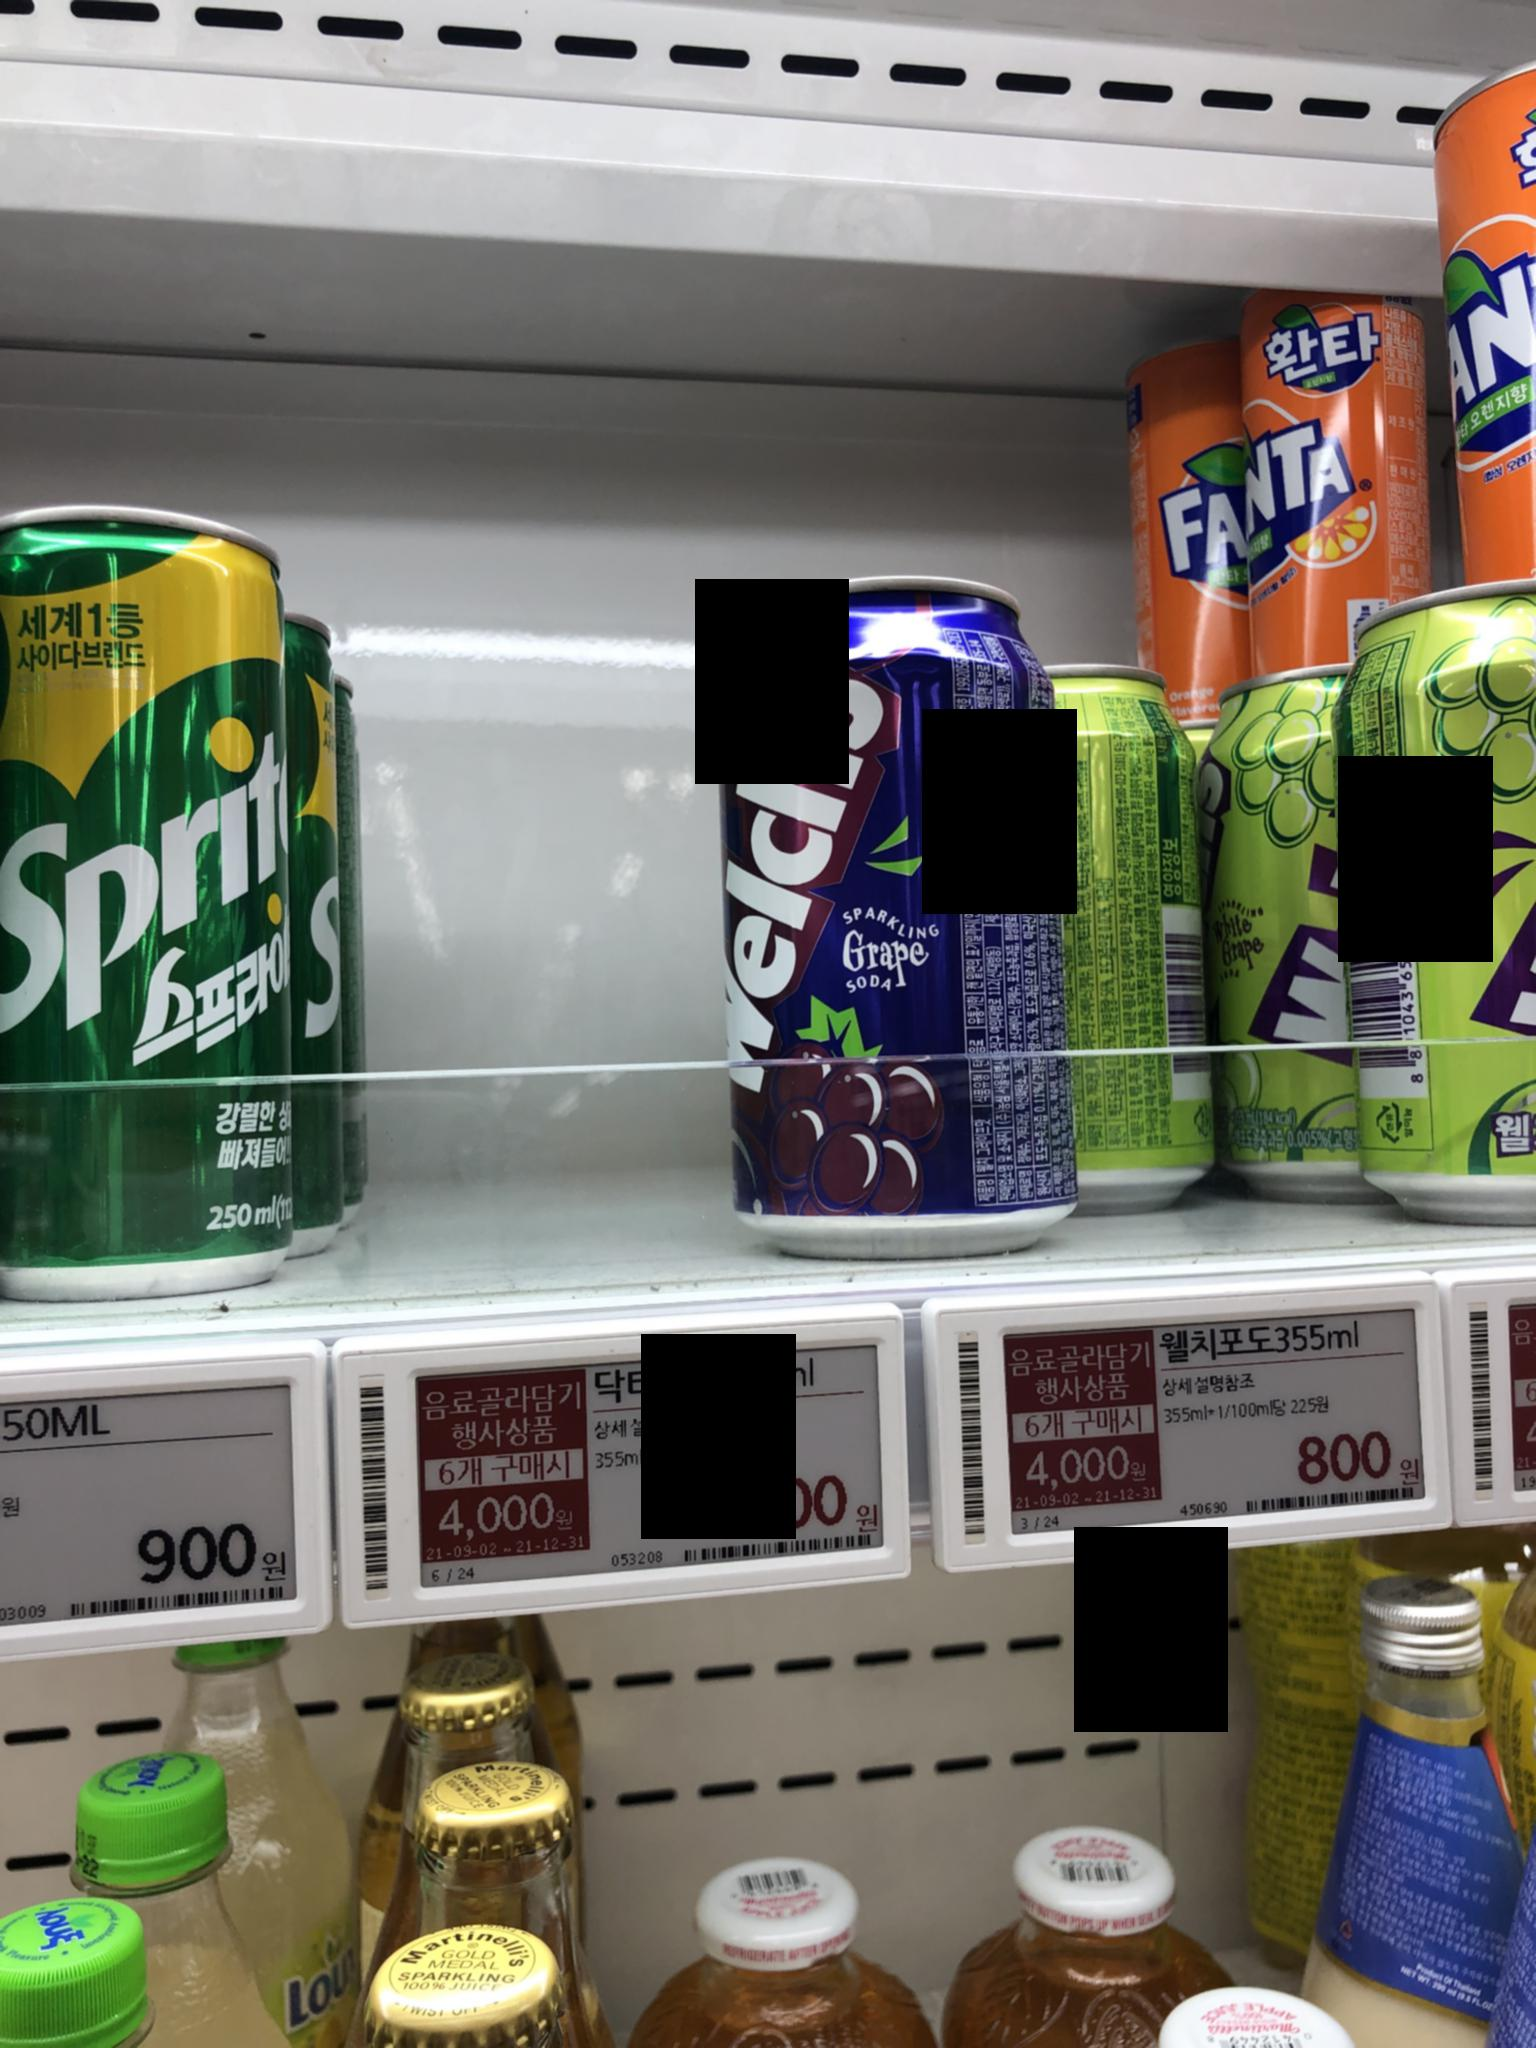welchs_grape: (713, 579, 1050, 1243)
